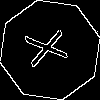X: (25, 25, 77, 69)
